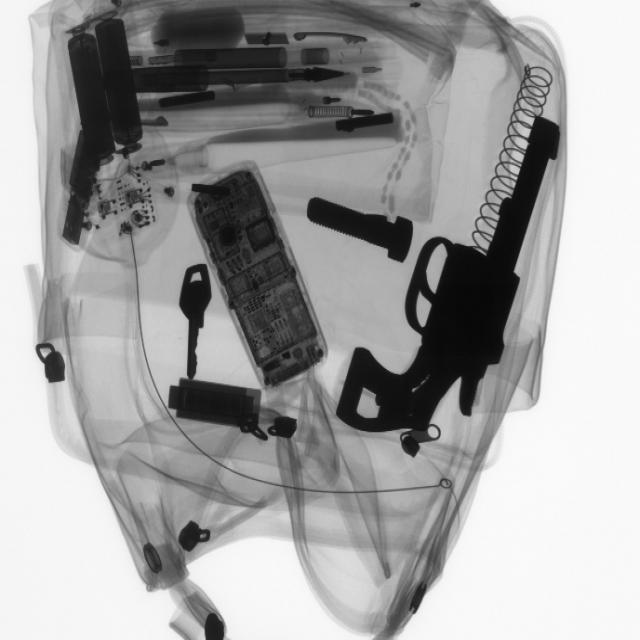GUN: (336, 125, 562, 446)
